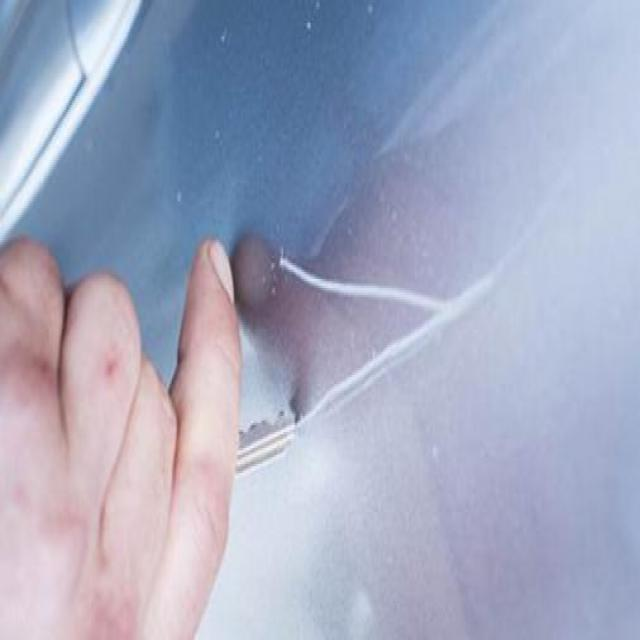scratch: (272, 246, 463, 322), (310, 338, 444, 418)
